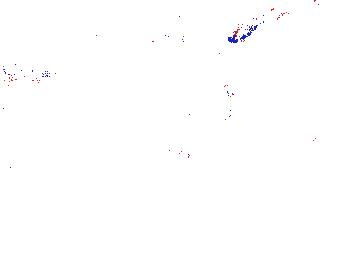glassfish: (282, 130, 346, 152)
redtail glassfish: (225, 1, 285, 45), (1, 60, 63, 88), (161, 23, 191, 48)
